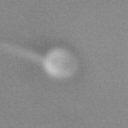normal: (1, 33, 42, 65)
